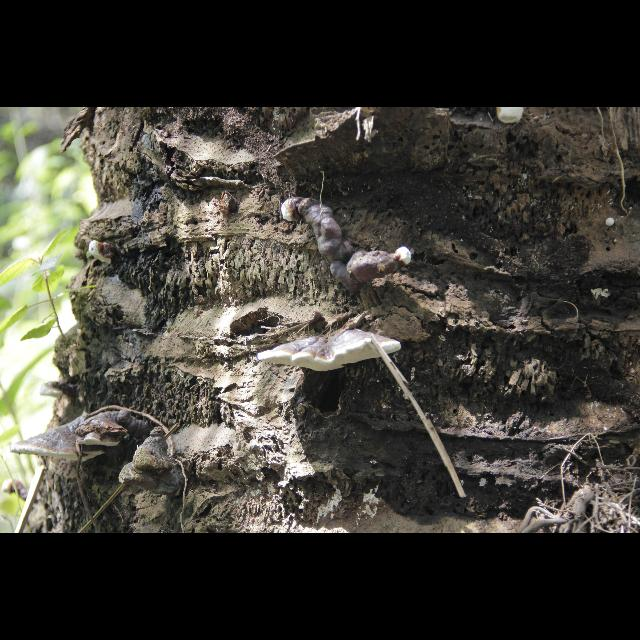ganoderma: (303, 198, 396, 294), (258, 329, 402, 374), (10, 415, 106, 463), (76, 408, 150, 448), (41, 382, 80, 400)
primordium: (90, 242, 120, 267), (282, 199, 302, 224), (497, 109, 526, 126), (2, 480, 22, 499), (396, 248, 413, 269), (607, 219, 616, 228)
